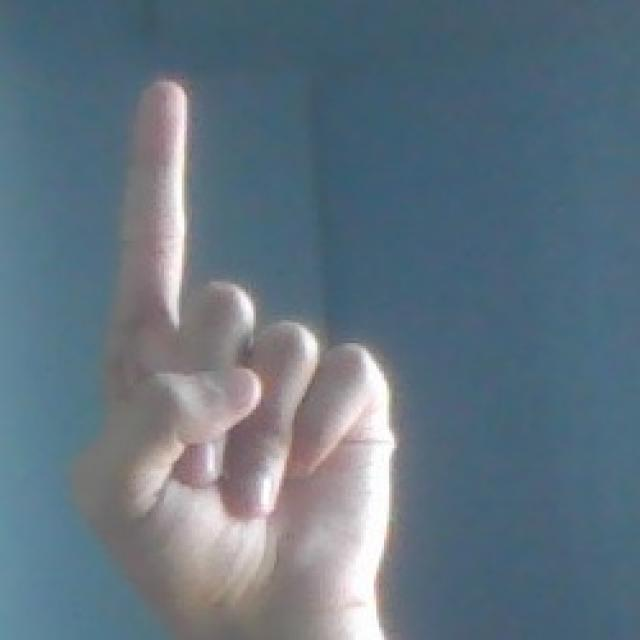Numeric-1: (81, 75, 398, 630)
